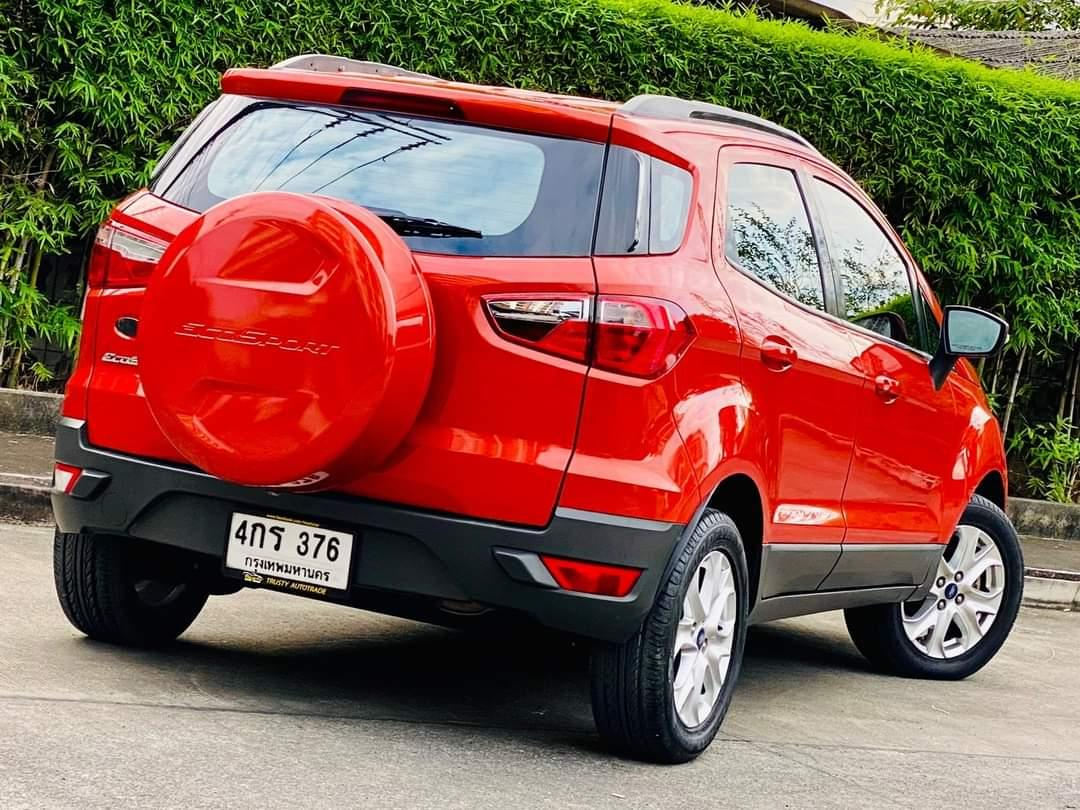license-plate: (217, 504, 360, 603)
